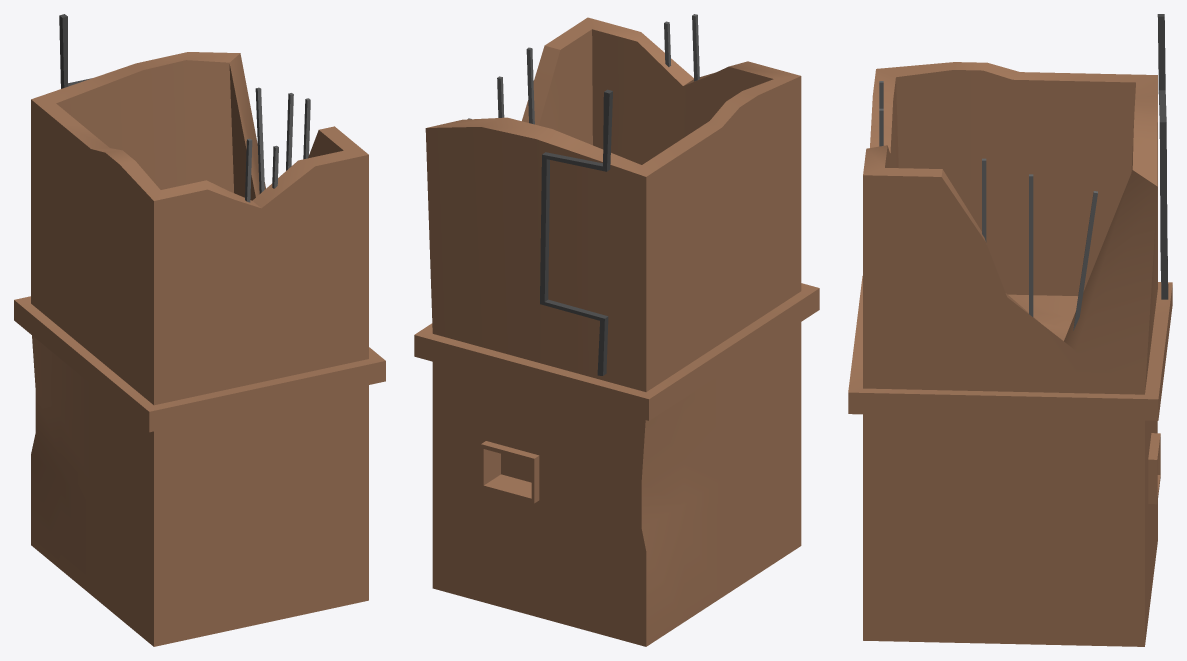
Rendered from MaisonDétruite.fbx.
3 views of the same model, side by side, from view 1: azimuth 30°, elevation 25°; view 2: azimuth 150°, elevation 25°; view 3: azimuth 270°, elevation 25° (orthographic). The views are drawn at different scales.
Visible parts, largest first — view 1: Cube.090, Cube.095; view 2: Cube.090, Cube.095; view 3: Cube.090, Cube.095.
Part boxes in pixels (x1,y1,x2,y2): Cube.090: (14, 52, 385, 646); Cube.095: (59, 14, 310, 202); Cube.090: (414, 17, 819, 646); Cube.095: (468, 14, 699, 375); Cube.090: (848, 62, 1172, 646); Cube.095: (879, 14, 1168, 330).
Bounding box in the file's own units: 401 × 820 × 444.
